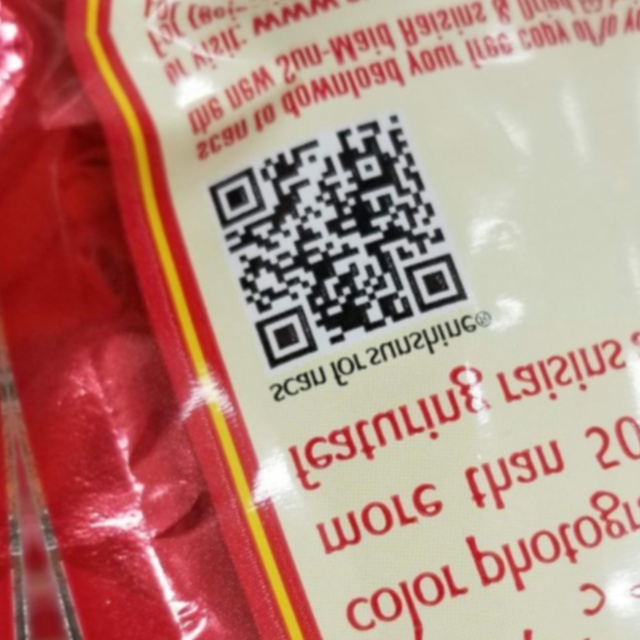qr-code: (187, 91, 483, 397)
